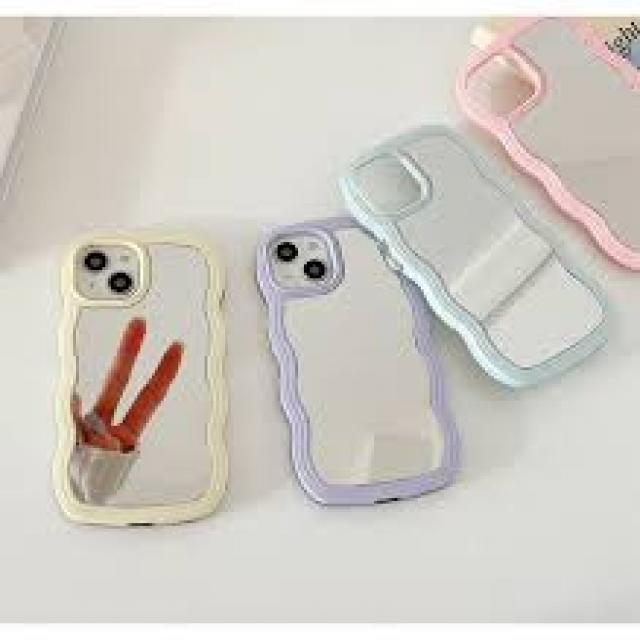Phone: (256, 210, 468, 512), (54, 232, 222, 524)
